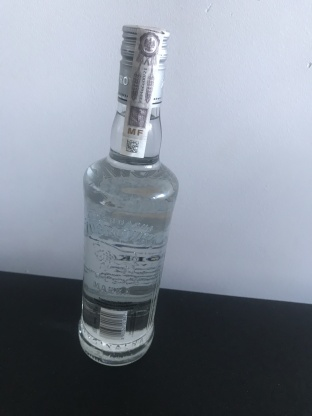nakretka: (116, 19, 172, 111)
